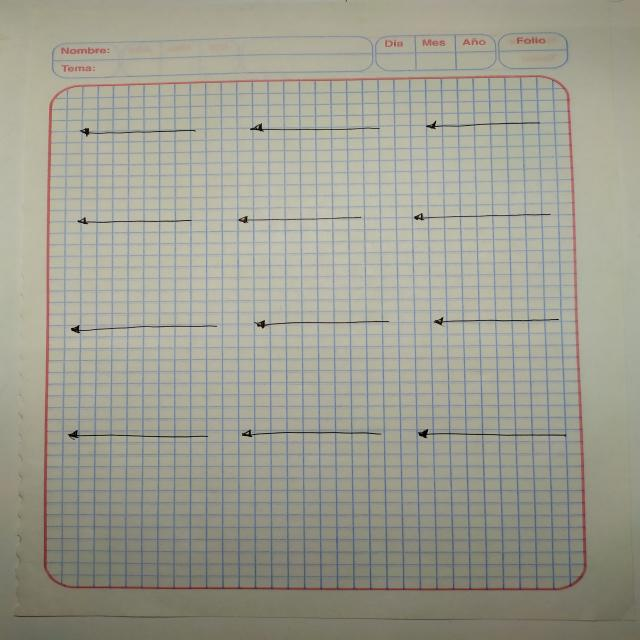arrow_line_left: (54, 424, 218, 455), (401, 421, 573, 450), (232, 423, 388, 451), (237, 118, 392, 142), (411, 115, 545, 142), (67, 120, 214, 144), (247, 315, 403, 335), (422, 313, 567, 333), (56, 318, 237, 334), (404, 207, 555, 225), (67, 210, 210, 229), (232, 210, 380, 227)
